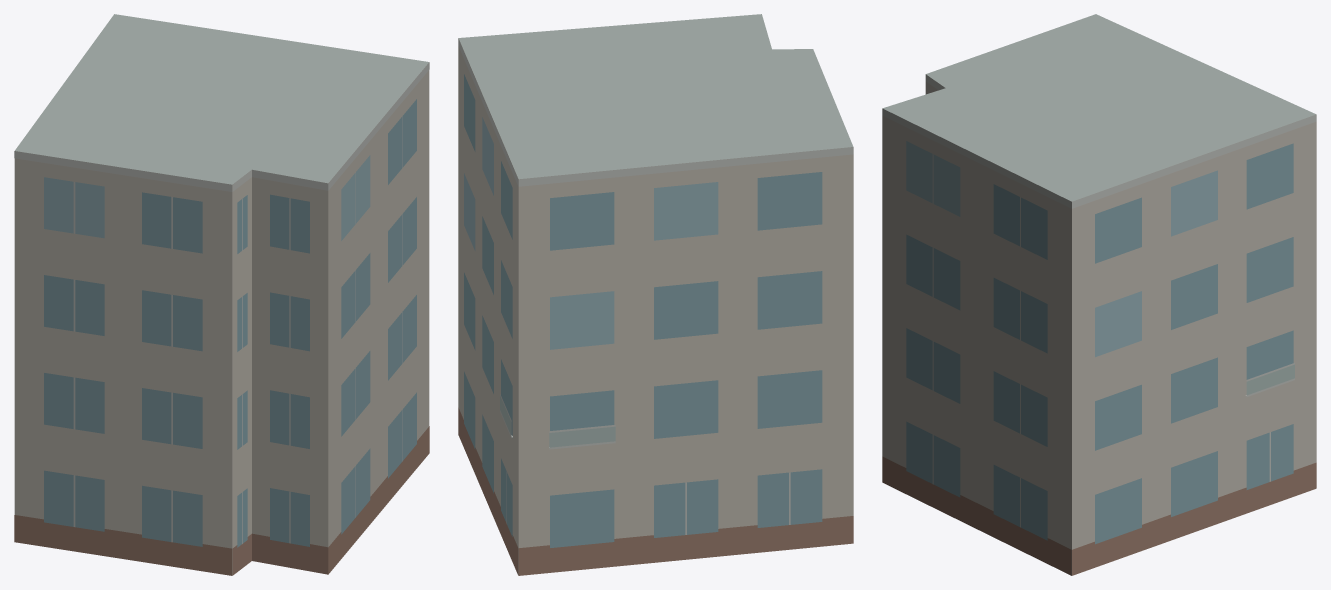
Rendered from survey-upis-32683293.glb.
3 renders of one model, left to right at view 1: azimuth 30°, elevation 25°; view 2: azimuth 150°, elevation 25°; view 3: azimuth 270°, elevation 25°, orthographic. The views are drawn at different scales.
Parts seen in each view (by area): view 1: survey-upis-32683293.tmp; view 2: survey-upis-32683293.tmp; view 3: survey-upis-32683293.tmp.
Part boxes in pixels (bbox=[...]): survey-upis-32683293.tmp: bbox=[14, 14, 429, 575]; survey-upis-32683293.tmp: bbox=[458, 14, 853, 575]; survey-upis-32683293.tmp: bbox=[882, 14, 1316, 575].
Bounding box in the file's own units: 13.78 × 12.8 × 13.47.
